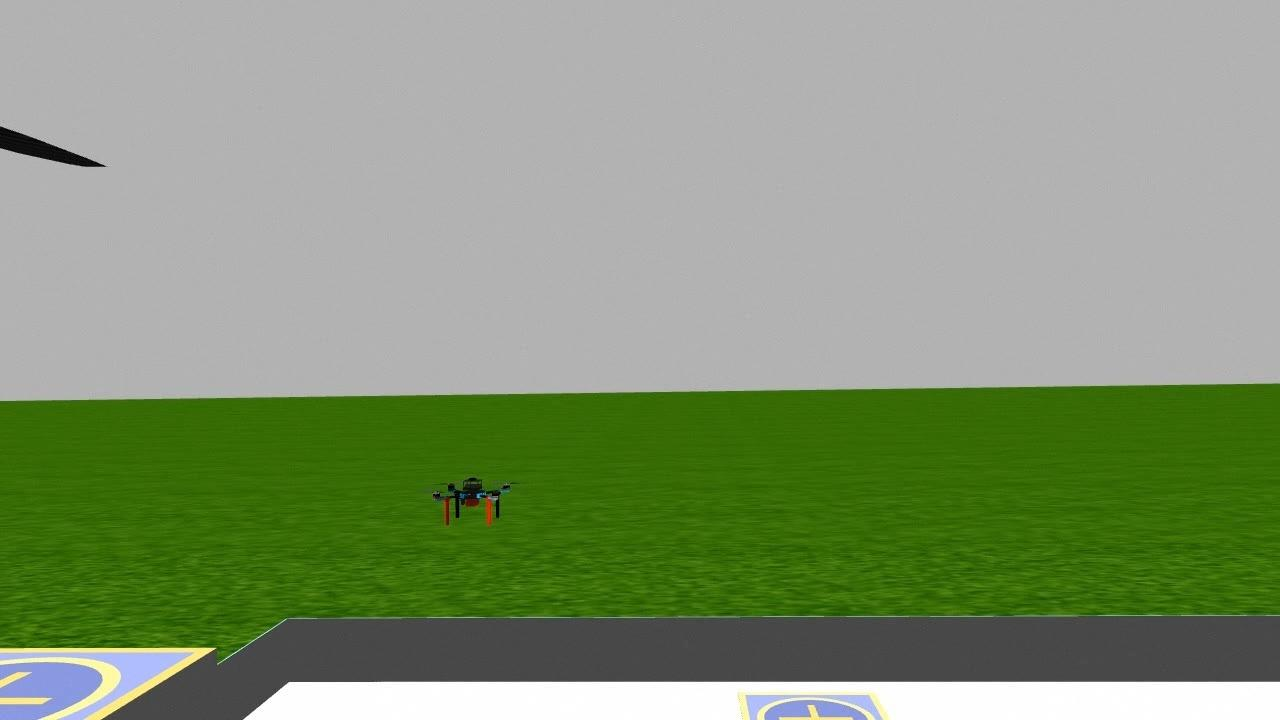UAV: (422, 454, 518, 536)
